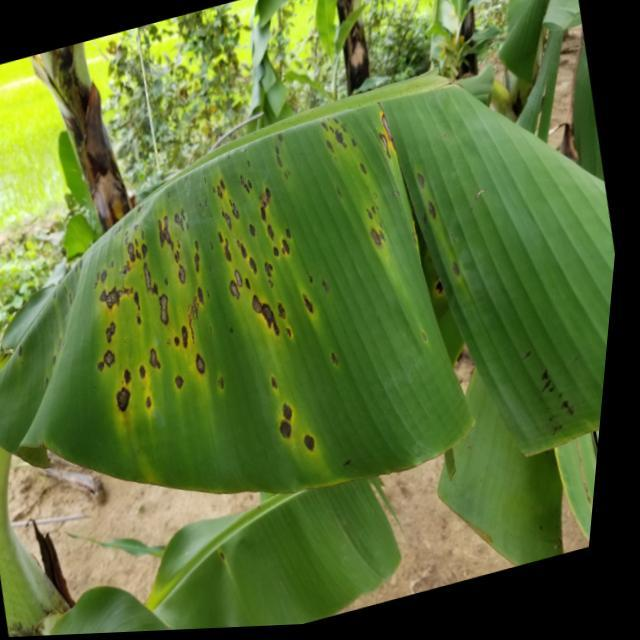Early_rust: (65, 83, 487, 470)
